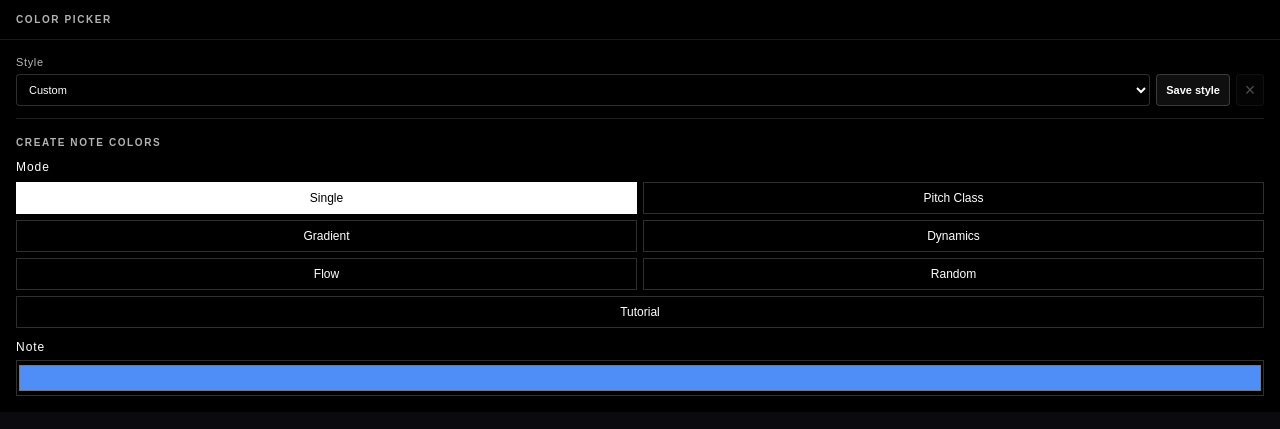
CreateColorPanel › enables timeline-based Flow colors without adding configuration clutter
Click the button "Flow": (326, 274) [16, 258, 637, 290]
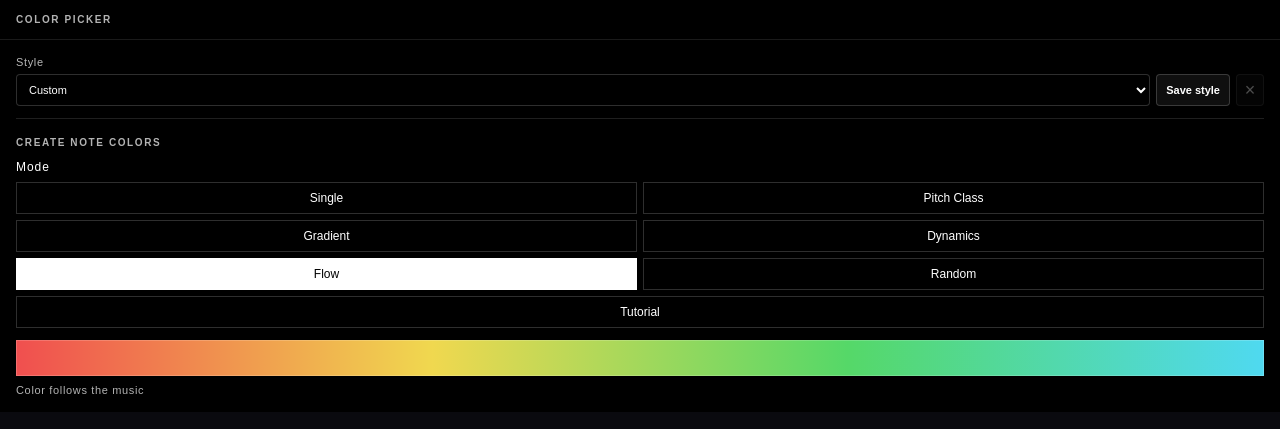
Now the element named "Colors flow through the performance timeline" is shown, box [16, 340, 1264, 396]
Now the colour field labelled "Single note color" is gone
